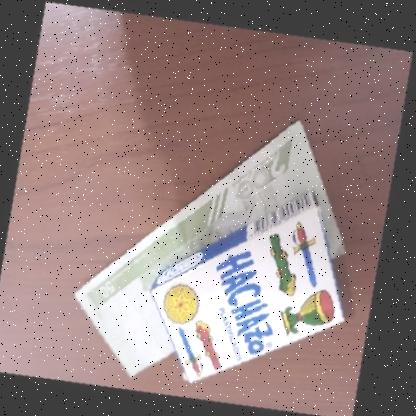vef_back: (54, 73, 383, 416)
